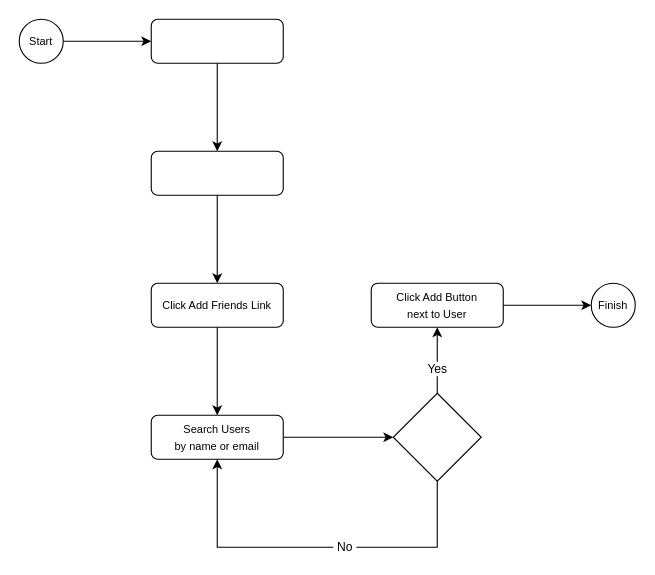
This 655x575 diagram has some shape labels left out. Each missing label, with the centre of its shape:
"Click Friends Link" goes at (216,172).
"Select Nav Menu" goes at (216,40).
"User Found?" goes at (436,436).
